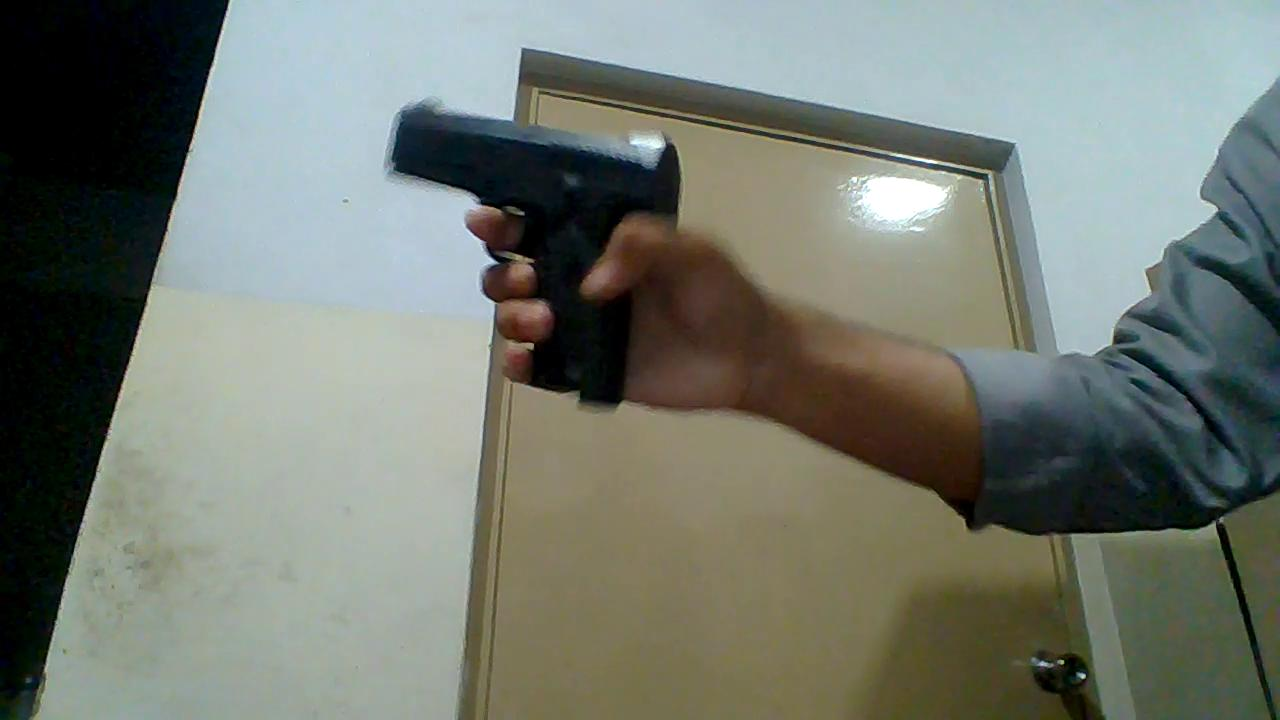weapon: (387, 94, 682, 413)
